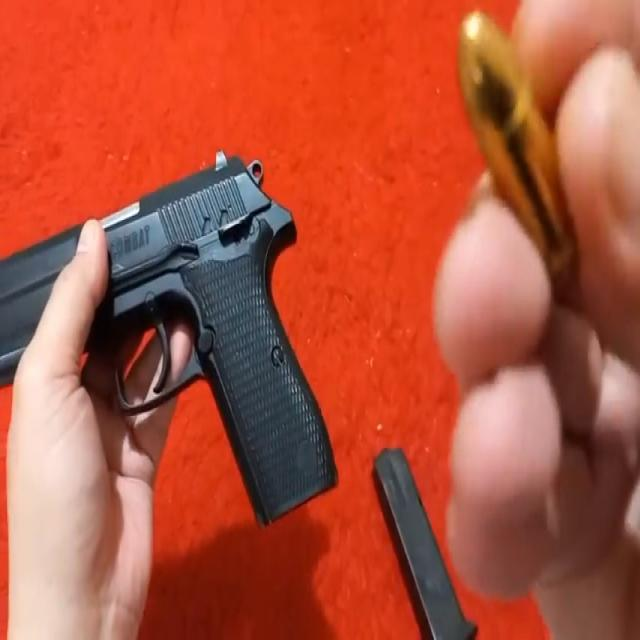handgun: (0, 140, 339, 539)
